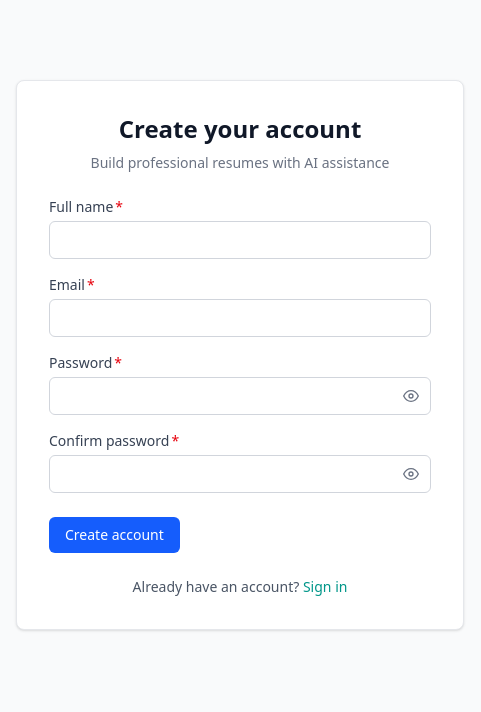
CandidateRegisterPage › shows error when passwords do not match
Type "Jane Doe" into the field labelled "Full name*" at (240, 240), box [49,221,431,259]
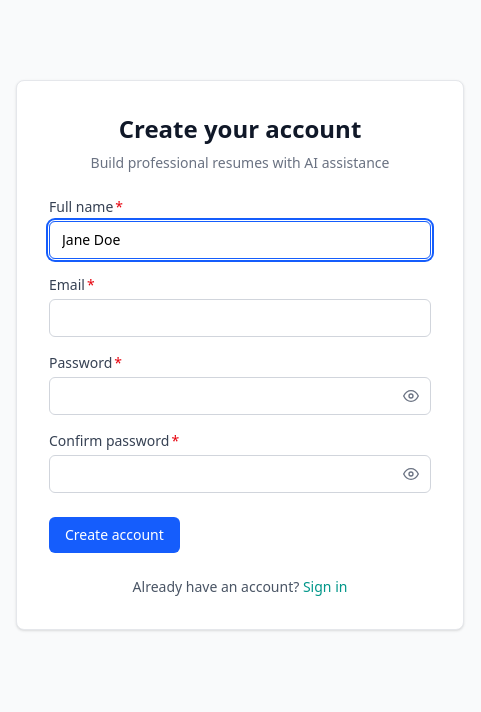
Type "jane@example.com" into the field labelled "Email*" at (240, 318), box [49,299,431,337]
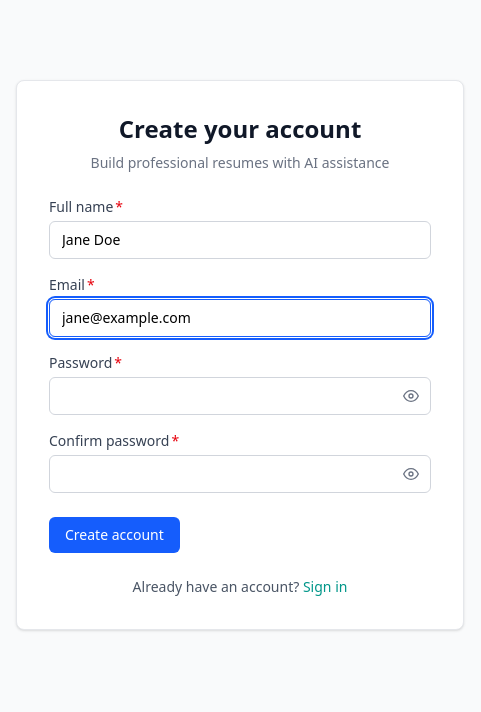
Type "SecurePass123!" into the password field labelled "Password*" at (240, 396), box [49,377,431,415]
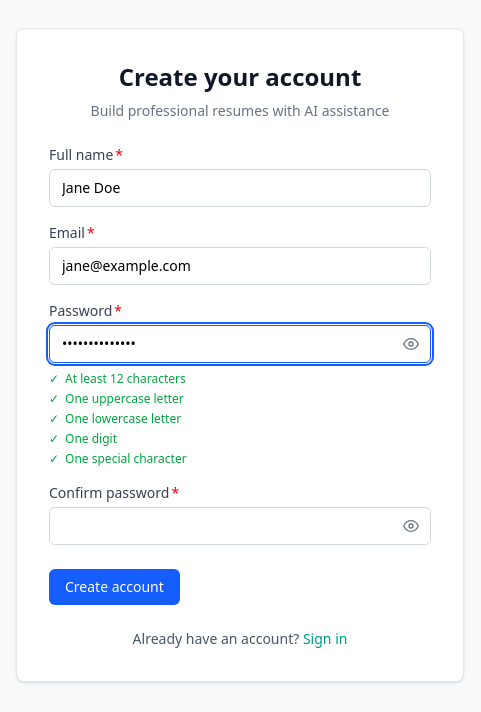
Type "DifferentPass!" into the password field labelled "Confirm password*" at (240, 526), box [49,507,431,545]
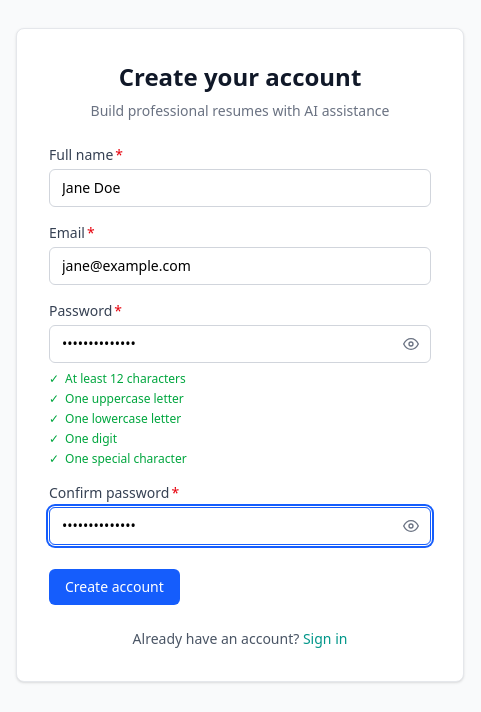
Click the button "Create account" at (114, 587), box [49,569,180,605]
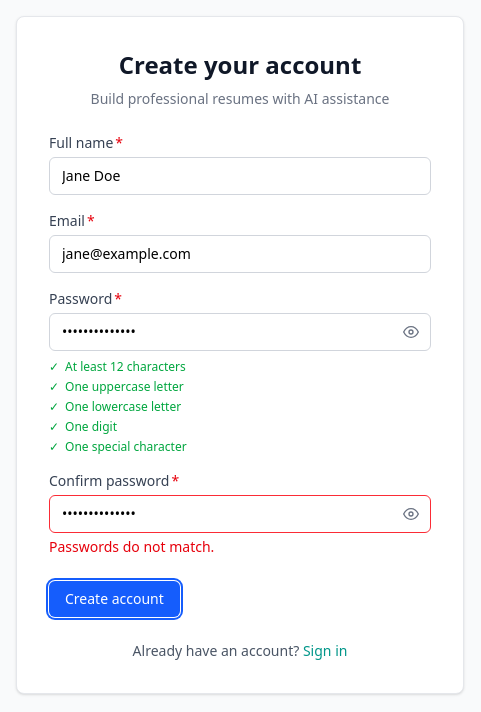
Now the text "Passwords do not match." is shown, box [49,537,214,556]
